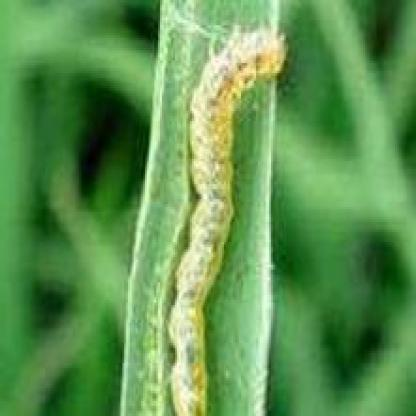leaf-folder: (158, 20, 288, 416)
